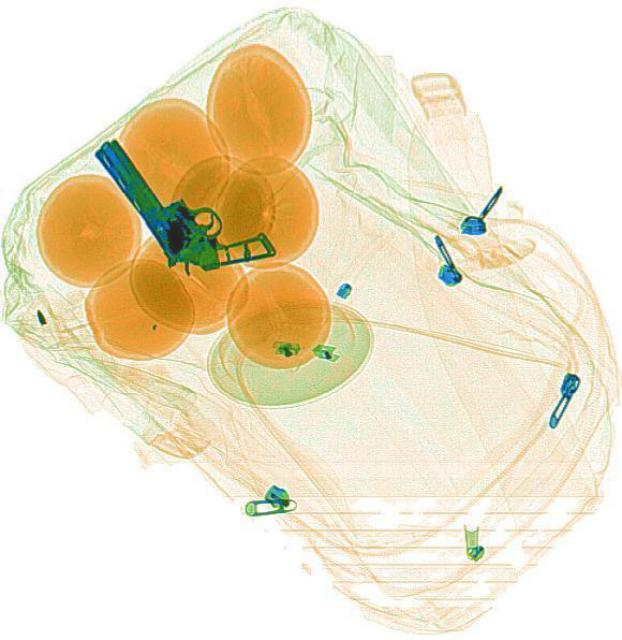Gun: (88, 100, 277, 302)
